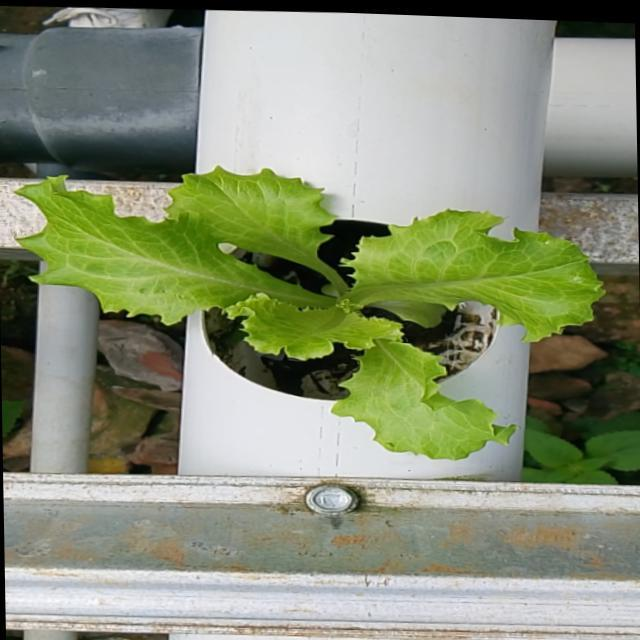Baby: (18, 163, 609, 455)
